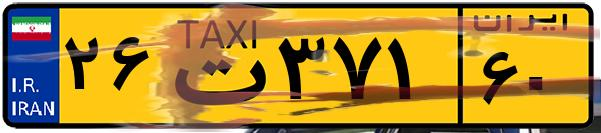0: (525, 38, 570, 115)
1: (385, 28, 445, 110)
2: (57, 26, 110, 100)
3: (270, 28, 330, 110)
6: (475, 38, 525, 113), (110, 28, 158, 98)
7: (330, 28, 385, 110)
ت: (158, 12, 270, 120)
